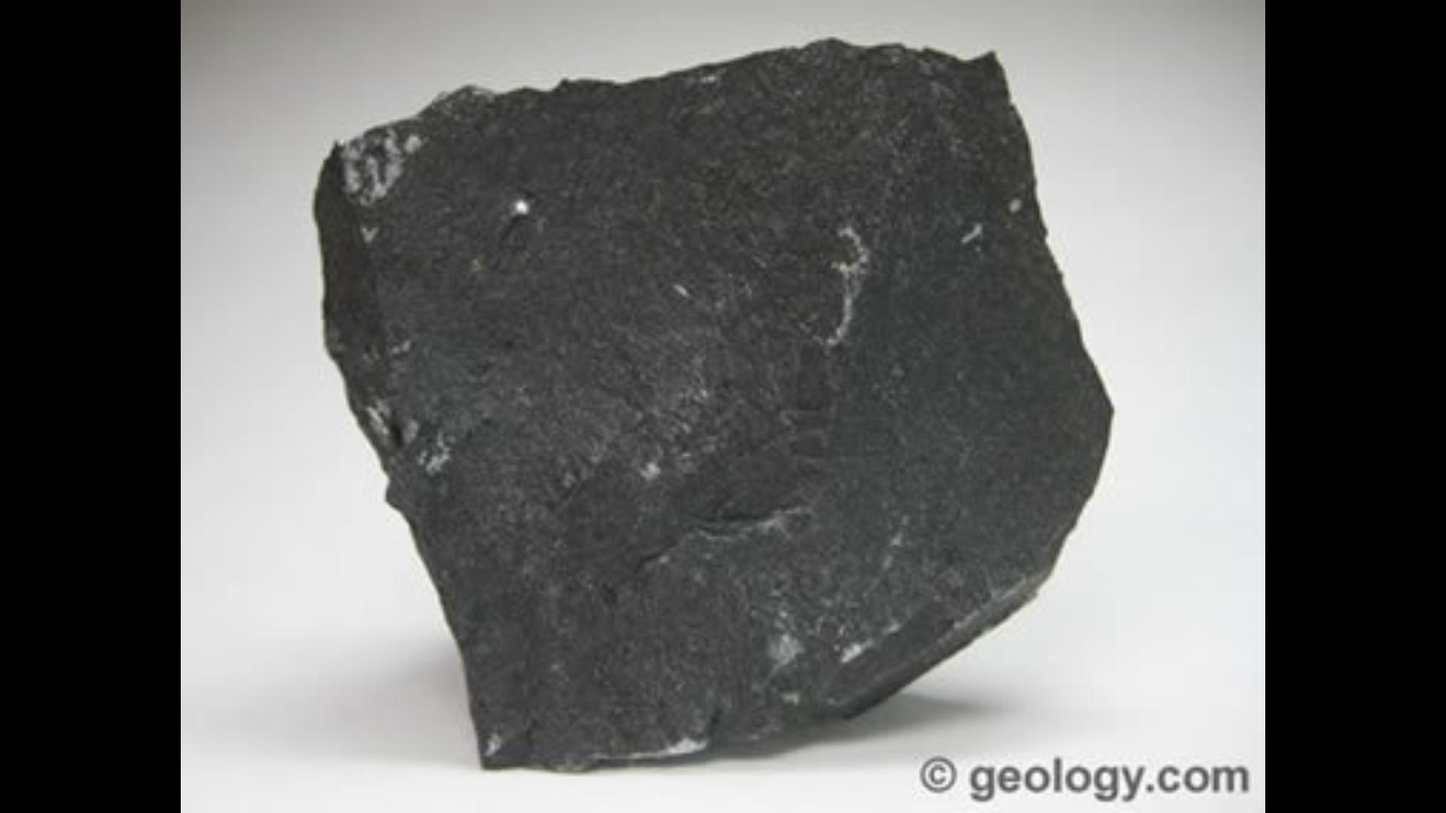rock: (318, 40, 1108, 765)
